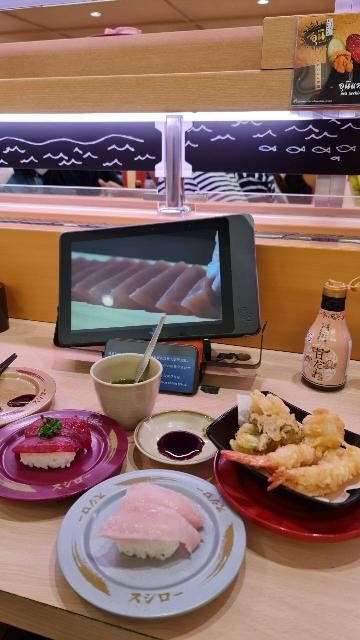jangold: (0, 348, 55, 432)
janred: (229, 429, 360, 559), (0, 397, 118, 511)
janwhite: (82, 484, 248, 596)
